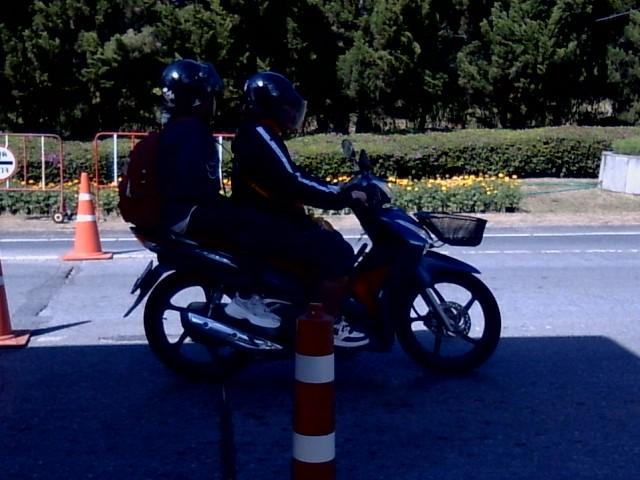helmet: (238, 68, 304, 137), (157, 59, 225, 115)
motor: (342, 139, 499, 373), (123, 227, 311, 379)
person: (231, 71, 369, 347), (153, 59, 281, 252), (232, 292, 278, 324)
